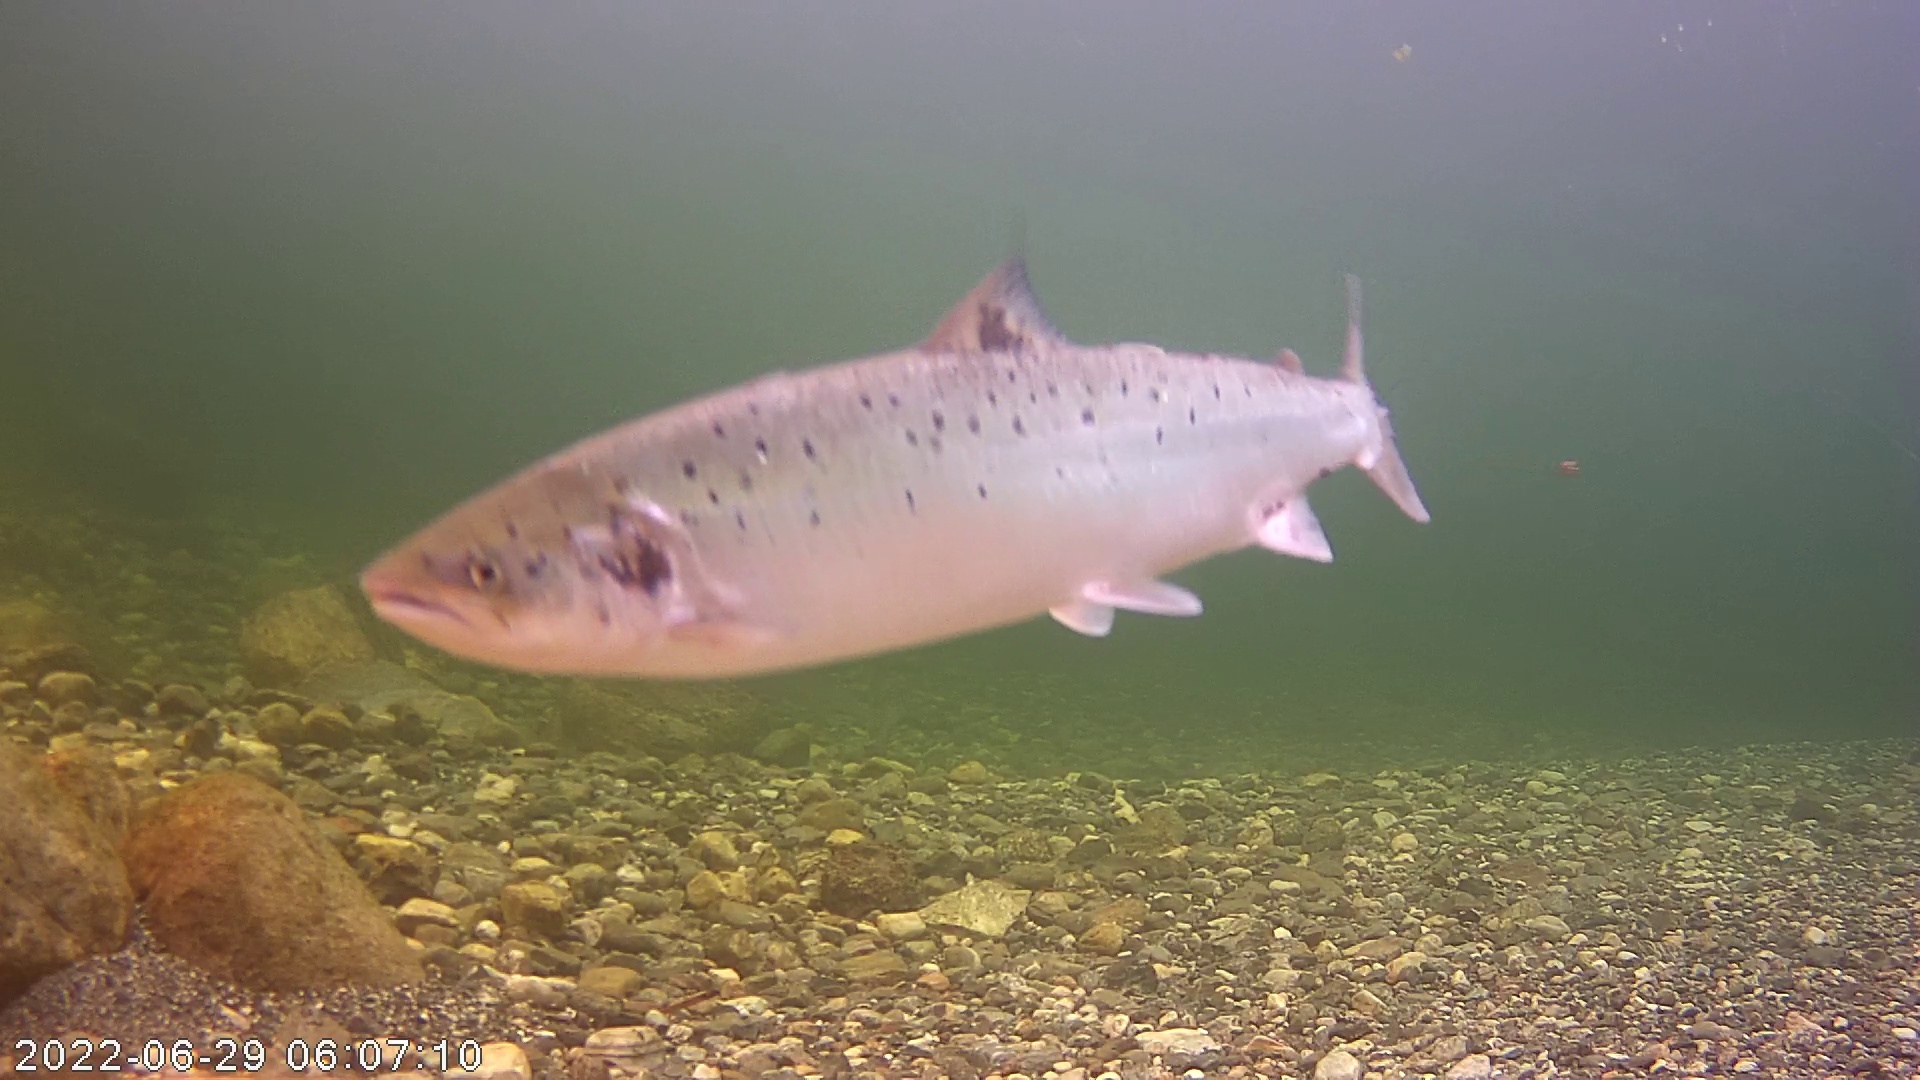salmon: (378, 175, 1419, 674)
